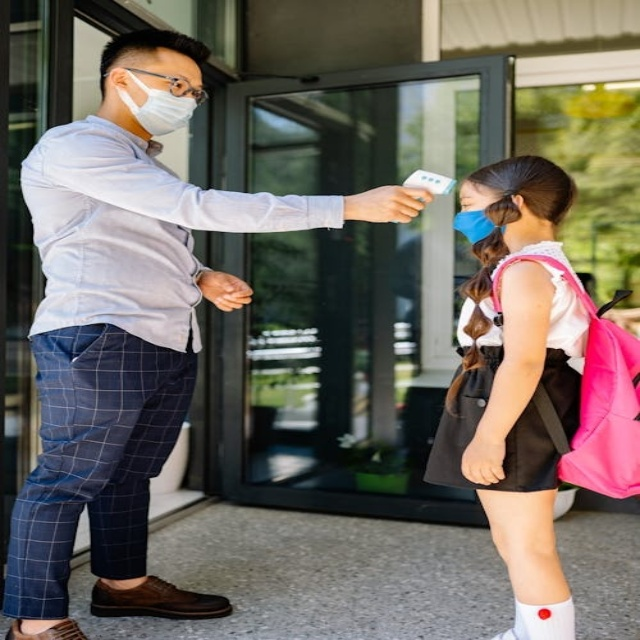Gafas: (109, 67, 208, 104)
Mascara: (114, 70, 200, 136), (453, 208, 505, 245)
Sin_gafas: (452, 192, 495, 208)
Sin_guantes: (343, 181, 431, 228), (454, 433, 515, 487), (197, 269, 253, 310)
